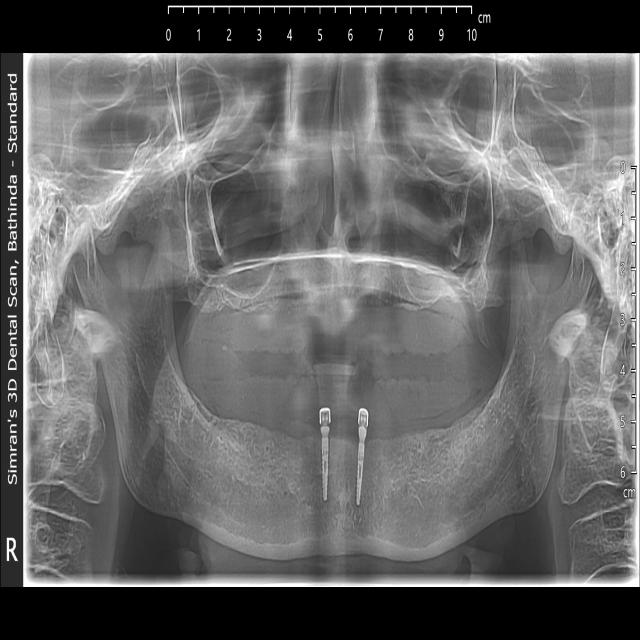Implant: (356, 410, 369, 504), (319, 408, 331, 502)
Mandibular Canal: (124, 351, 292, 529), (415, 361, 551, 537)
Missing teeth: (196, 295, 472, 347), (185, 355, 308, 439), (367, 379, 478, 447), (331, 391, 361, 444)
maxillary sinus: (186, 134, 292, 299), (390, 165, 494, 307)
